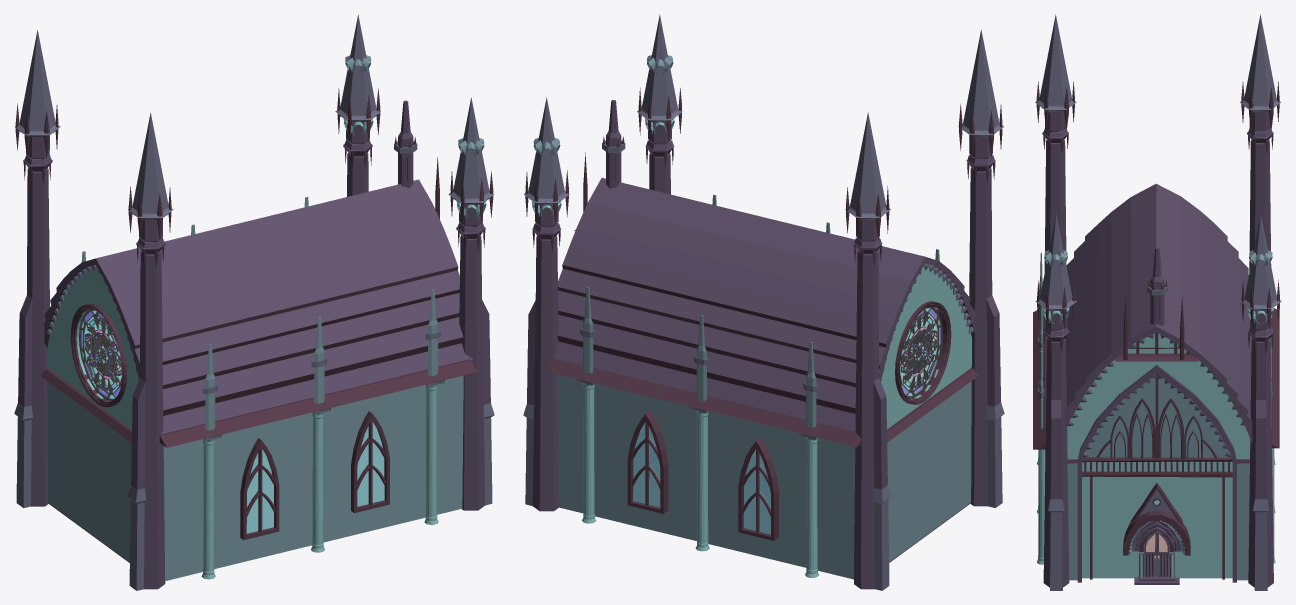
File: chapel_environment.glb
3 renders of one model, left to right at view 1: azimuth 30°, elevation 25°; view 2: azimuth 150°, elevation 25°; view 3: azimuth 270°, elevation 25°, orthographic. The views are drawn at different scales.
Parts seen in each view (by area): view 1: Cone; view 2: Cone; view 3: Cone.
Part boxes in pixels (box(x1,y1,x2,y2)): Cone: box(14, 15, 494, 590); Cone: box(523, 14, 1004, 590); Cone: box(1033, 14, 1281, 590).
Bounding box in the file's own units: 10.45 × 13.14 × 6.93.
Materials: 6 (2 with a texture image).
